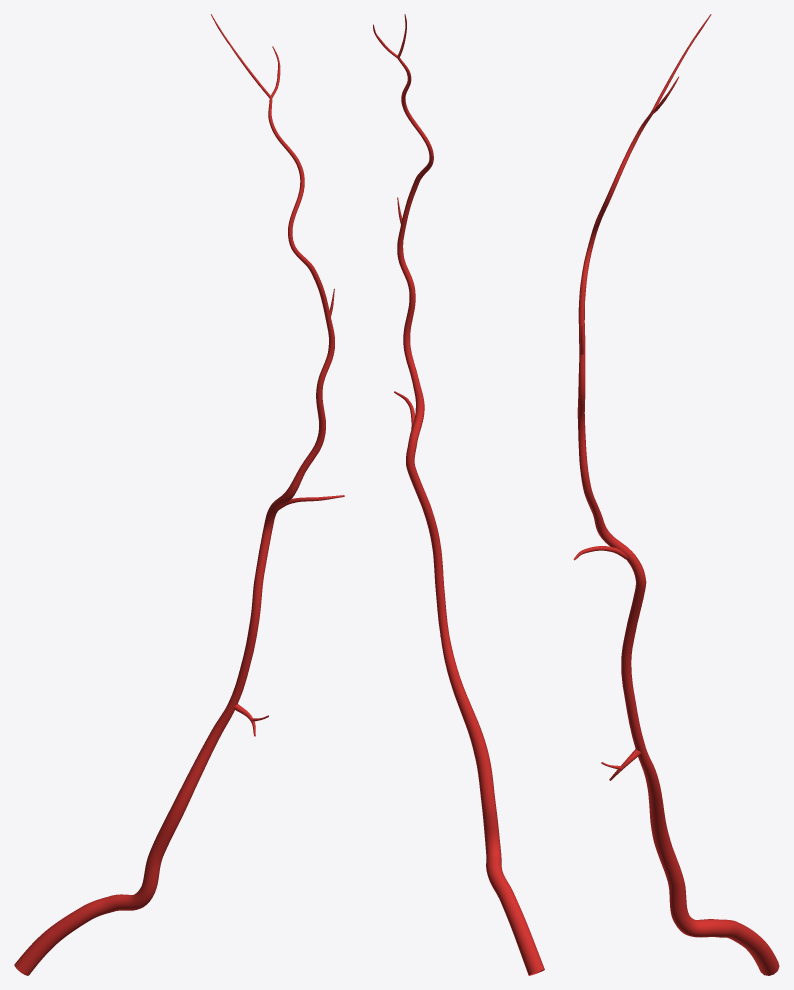
The model's file is circulatorio-angular-artery-r.glb.
3 views of the same model, side by side, from view 1: azimuth 30°, elevation 25°; view 2: azimuth 150°, elevation 25°; view 3: azimuth 270°, elevation 25° (orthographic). The views are drawn at different scales.
Visible parts, largest first — view 1: Angular artery.r; view 2: Angular artery.r; view 3: Angular artery.r.
Part boxes in pixels (bbox=[...]): Angular artery.r: bbox=[14, 14, 344, 975]; Angular artery.r: bbox=[373, 14, 544, 975]; Angular artery.r: bbox=[573, 14, 779, 975].
Bounding box in the file's own units: 0.0304 × 0.113 × 0.0202.
